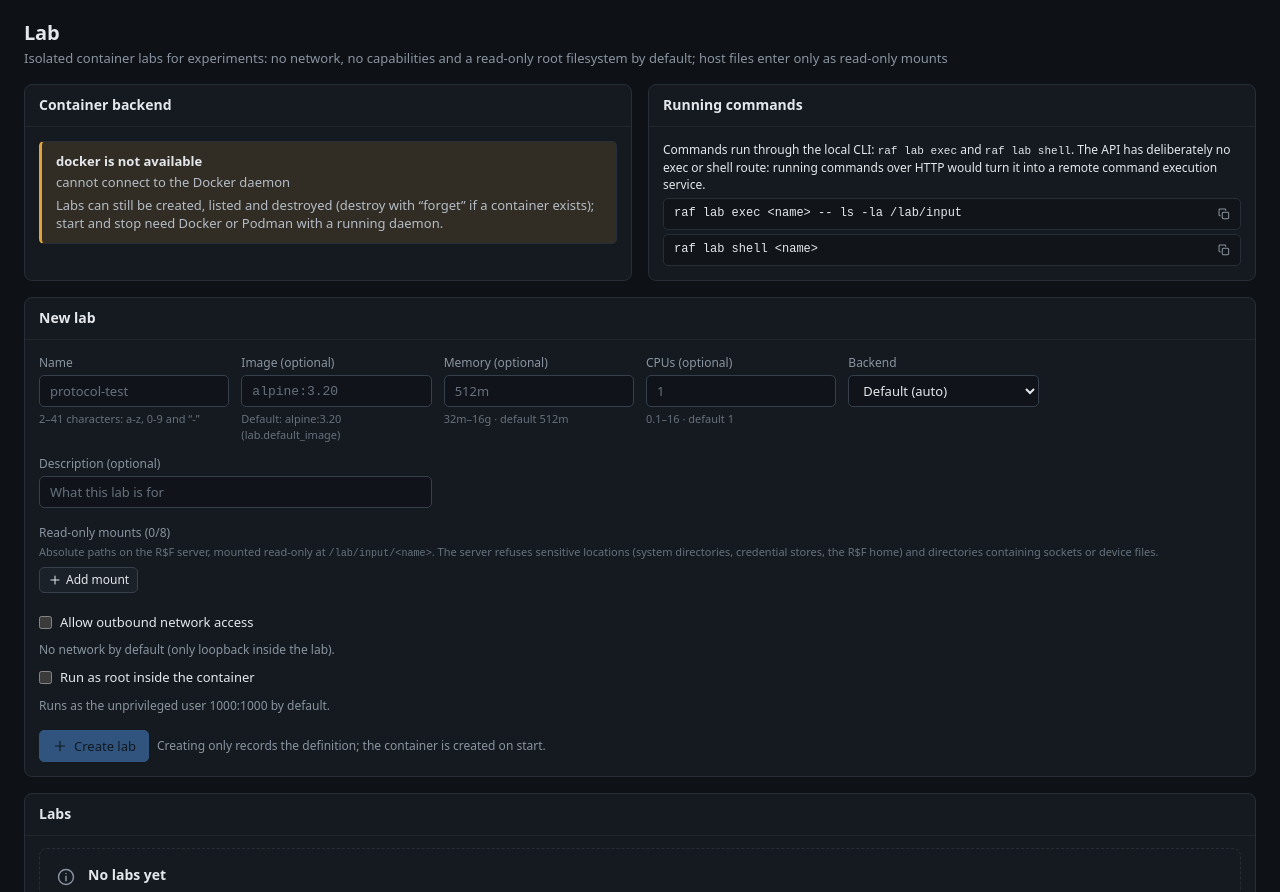
Test case: Lab page › checks the form before sending: names and absolute mount paths
Type "Bad_Name" into the field labelled "Name".
click(134, 391); type("Bad_Name")  # box top-left (39, 375), bottom-right (229, 407)
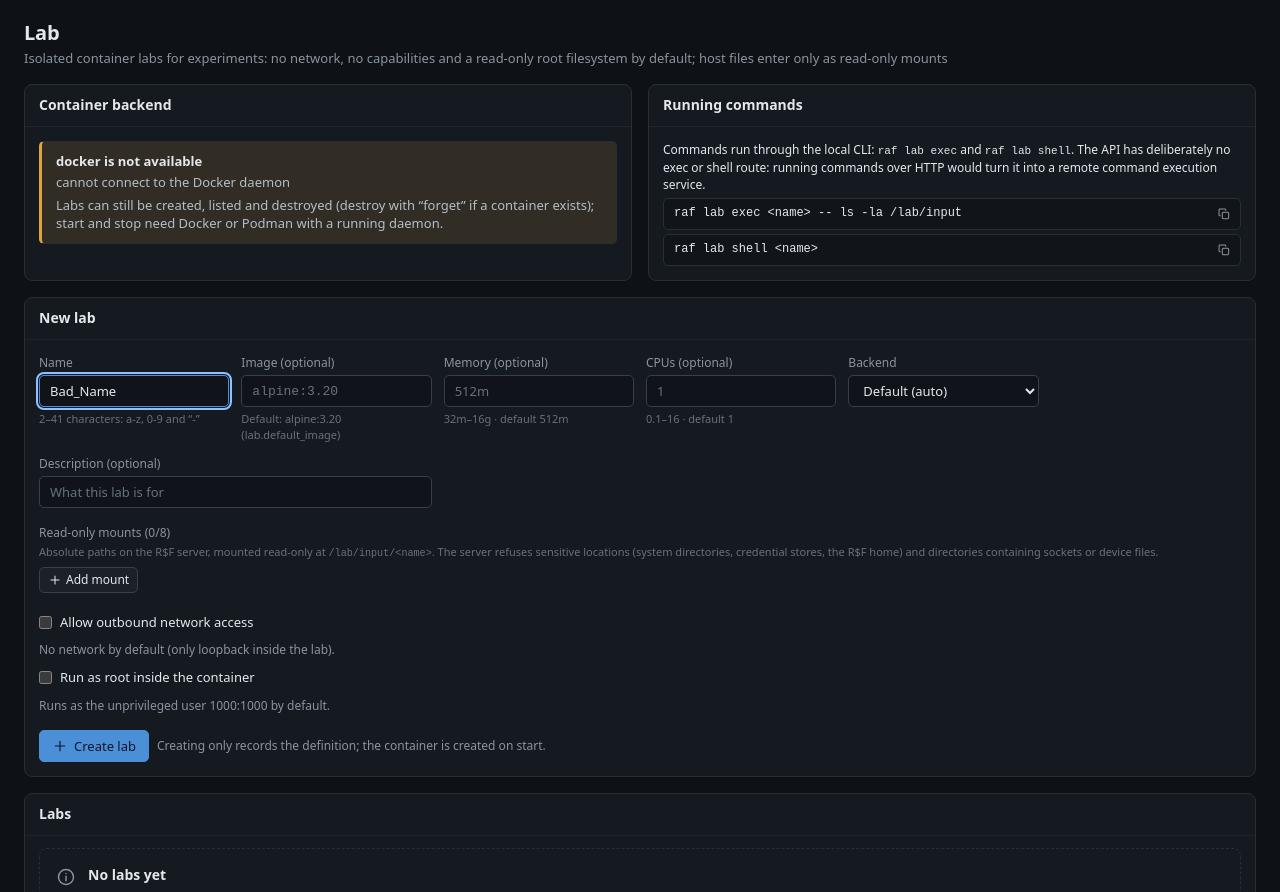
Click the button "Add mount".
click(89, 580)  # box top-left (39, 567), bottom-right (138, 593)
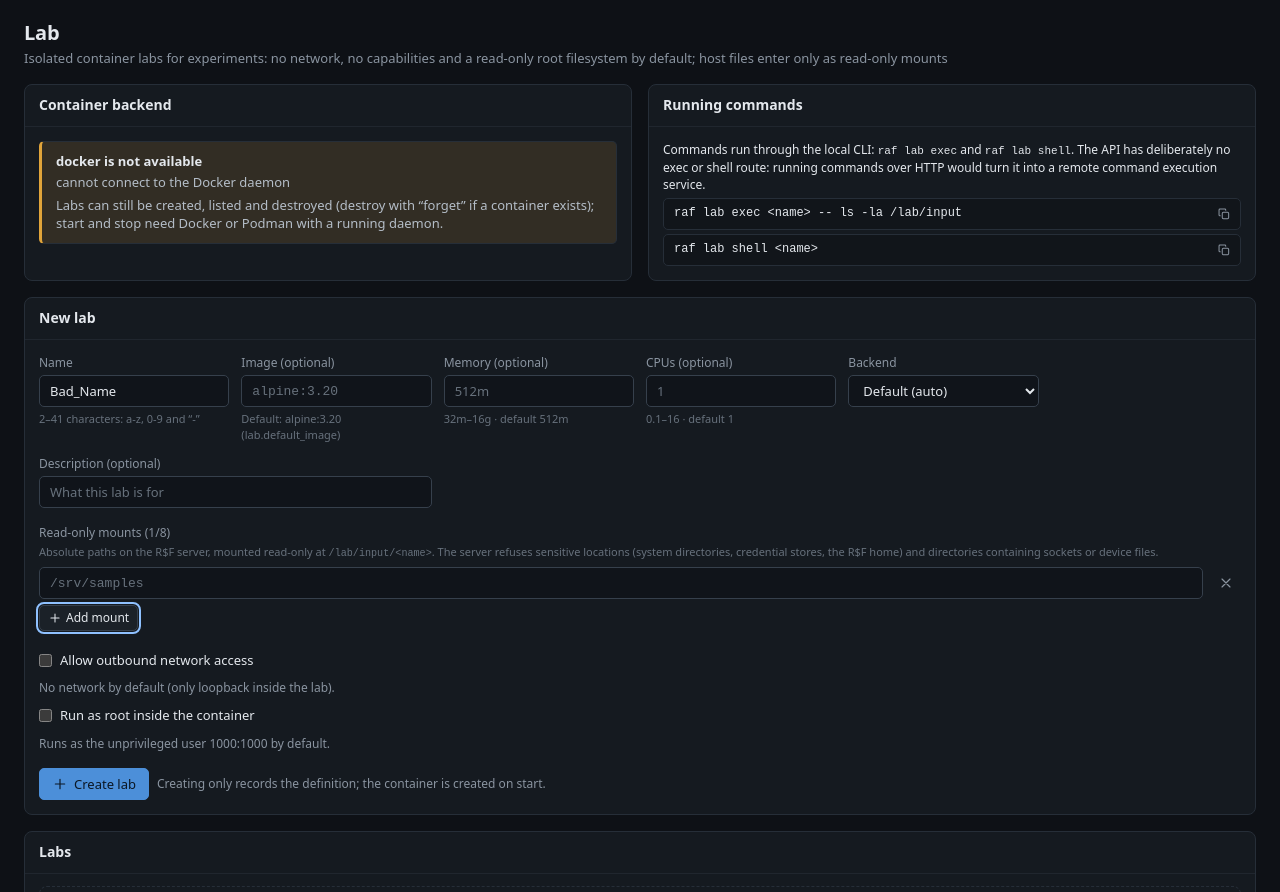
Type "samples" into the field named "Mount path 1".
click(621, 583); type("samples")  # box top-left (39, 567), bottom-right (1203, 599)
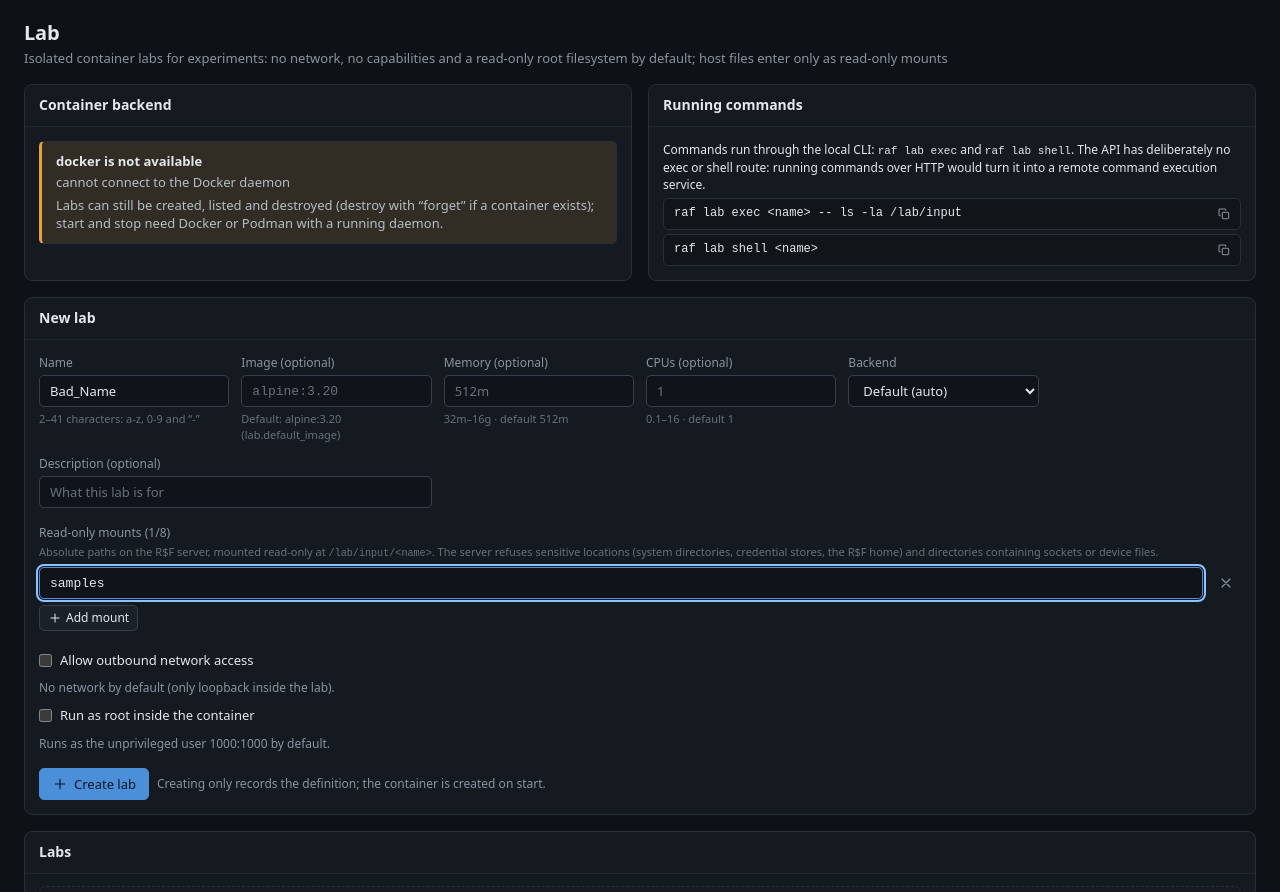
Click the button "Create lab".
click(94, 784)  # box top-left (39, 768), bottom-right (149, 800)
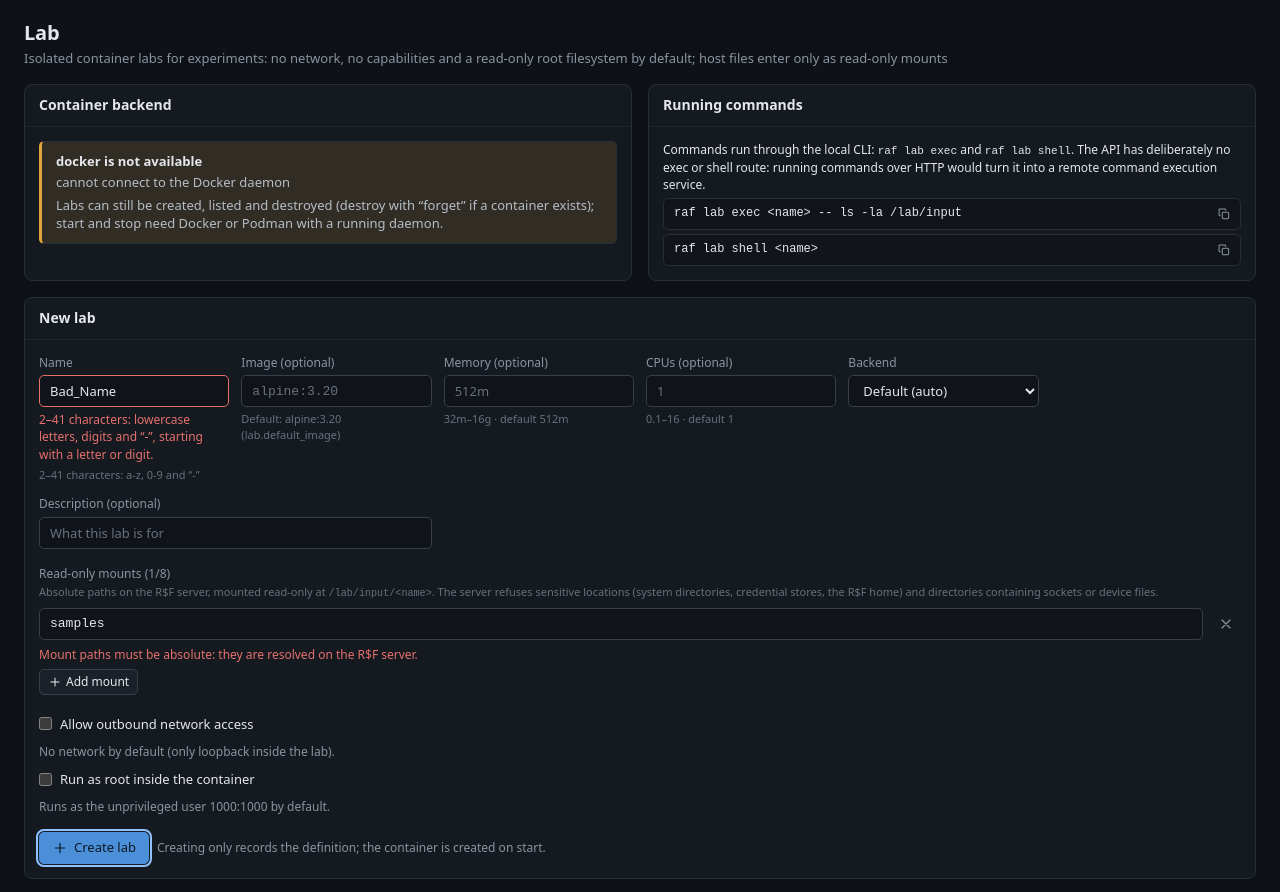
Result: the text "lowercase letters, digits" is shown at top-left (39, 411), bottom-right (203, 463)
Result: the text "Mount paths must be absolute: they are resolved on the R$F server." is shown at top-left (39, 646), bottom-right (418, 663)
